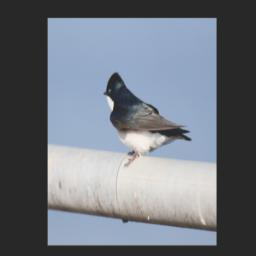Swallow: (103, 72, 192, 168)
